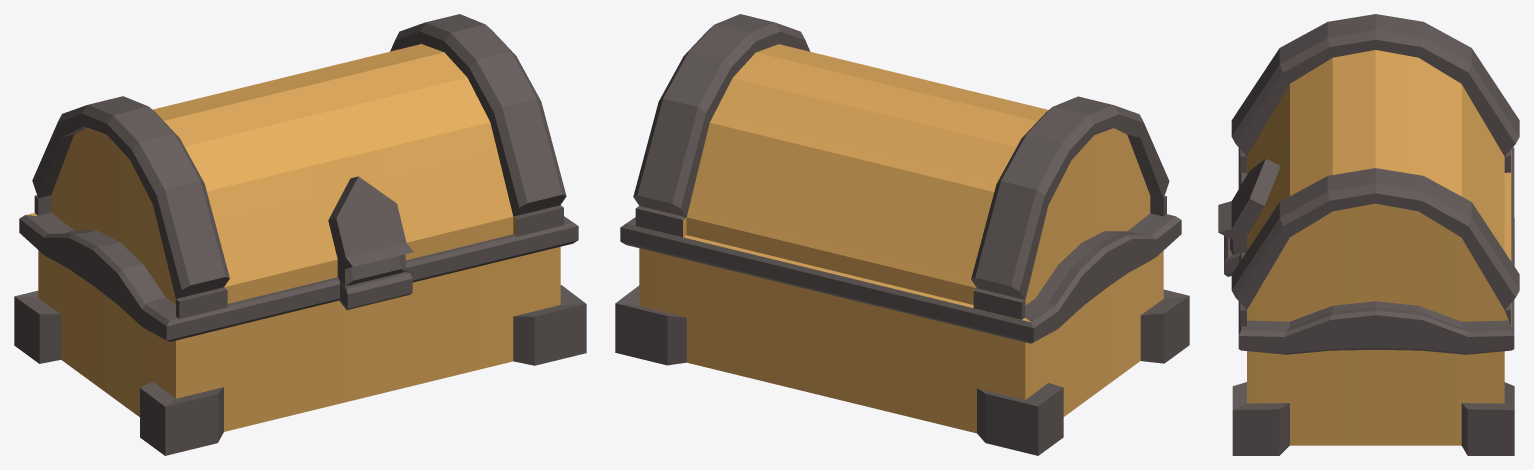
Rendered from Safe Chest.fbx.
3 views of the same model, side by side, from view 1: azimuth 30°, elevation 25°; view 2: azimuth 150°, elevation 25°; view 3: azimuth 270°, elevation 25° (orthographic). The views are drawn at different scales.
Parts seen in each view (by area): view 1: Safe Chest; view 2: Safe Chest; view 3: Safe Chest.
Boxes of the visible parts, <box> form: Safe Chest: <box>14,14,586,455</box>; Safe Chest: <box>615,14,1189,455</box>; Safe Chest: <box>1218,14,1519,455</box>.
Size of the model in its own units: 104 by 65.93 by 69.11.
